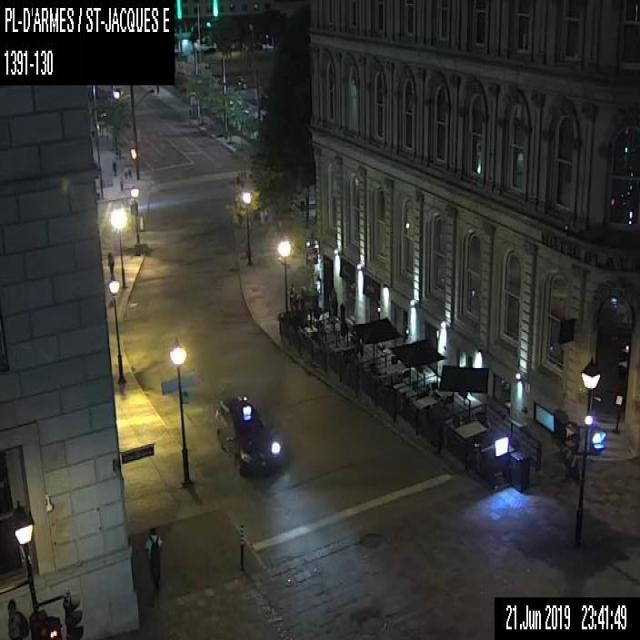pedestrian: (144, 527, 162, 593), (6, 596, 29, 639), (106, 250, 116, 280), (111, 160, 116, 175), (127, 166, 132, 180), (123, 166, 127, 180), (119, 176, 122, 191)
vehicle: (213, 394, 280, 478)
